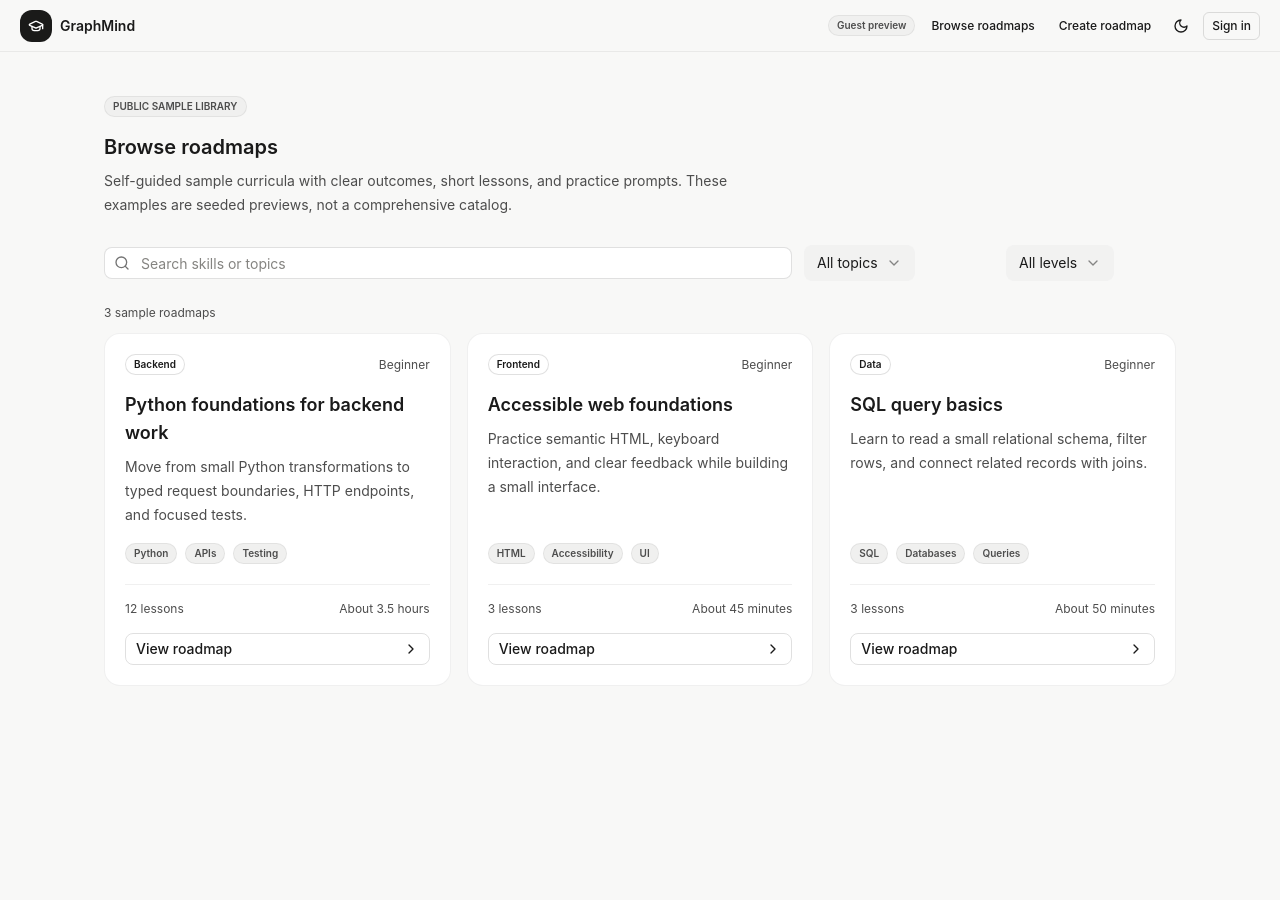
Test: public-to-learner journeys › saves the selected public roadmap after demo sign-in
Click the button "View roadmap" below "12" at (184, 648), box [125,633,430,665]
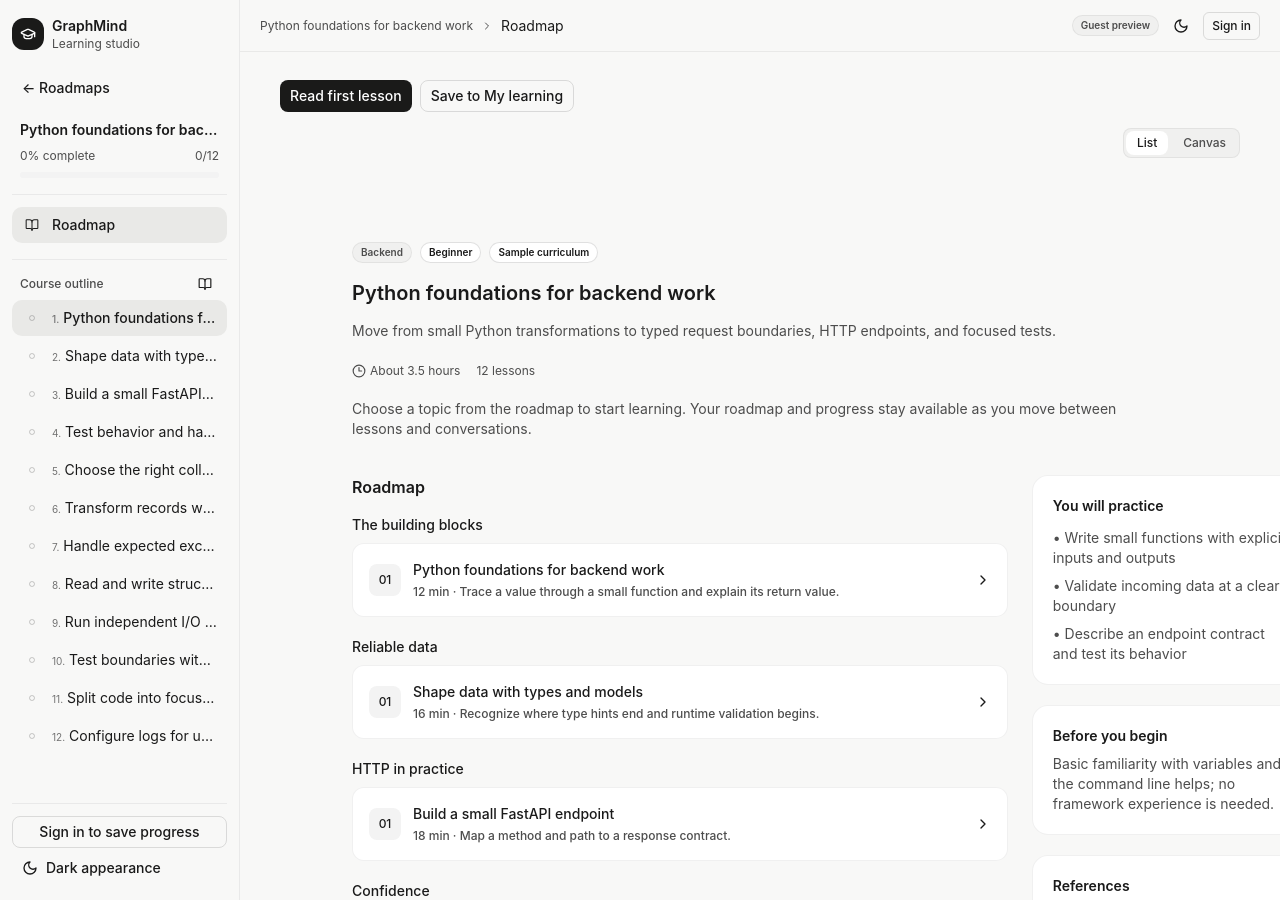
Click the button "Save to My learning" at (497, 96), box [420,80,574,112]
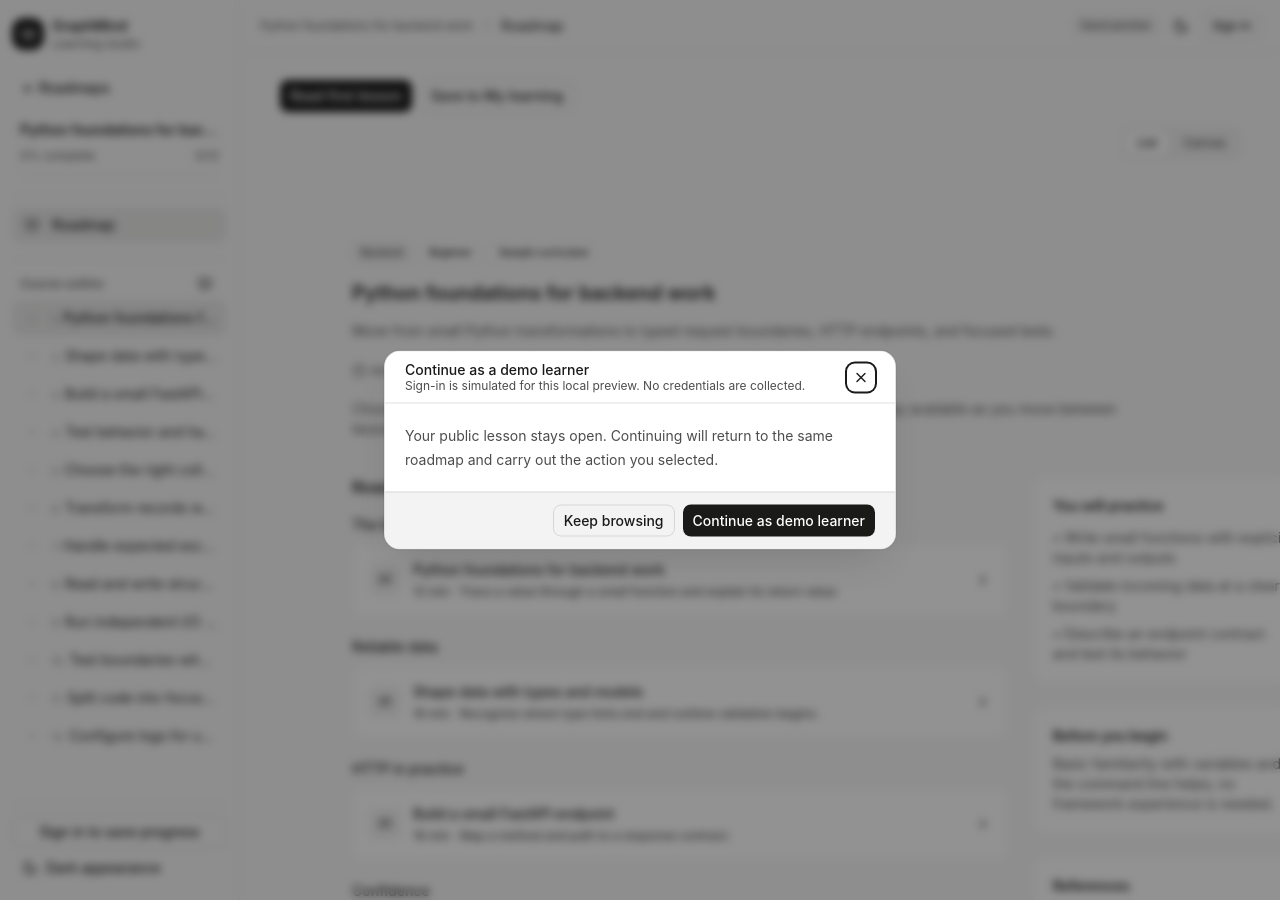
Click the button "Continue as demo learner" at (779, 520), box [682,504,875,536]
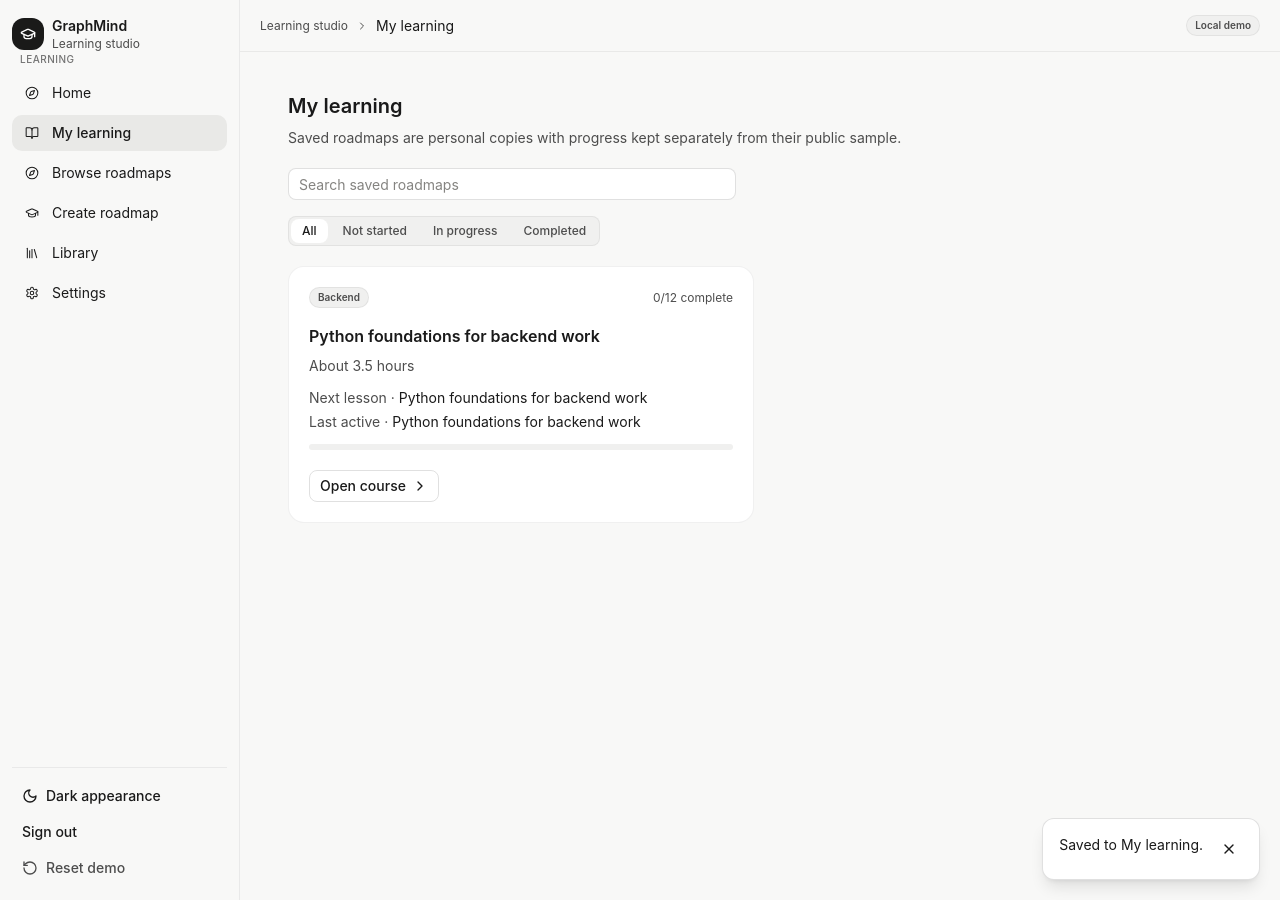
Expected: the heading "Python foundations for backend work" is shown, [309,326,600,346]
Now the heading "My learning" is shown, box [288,94,402,118]
